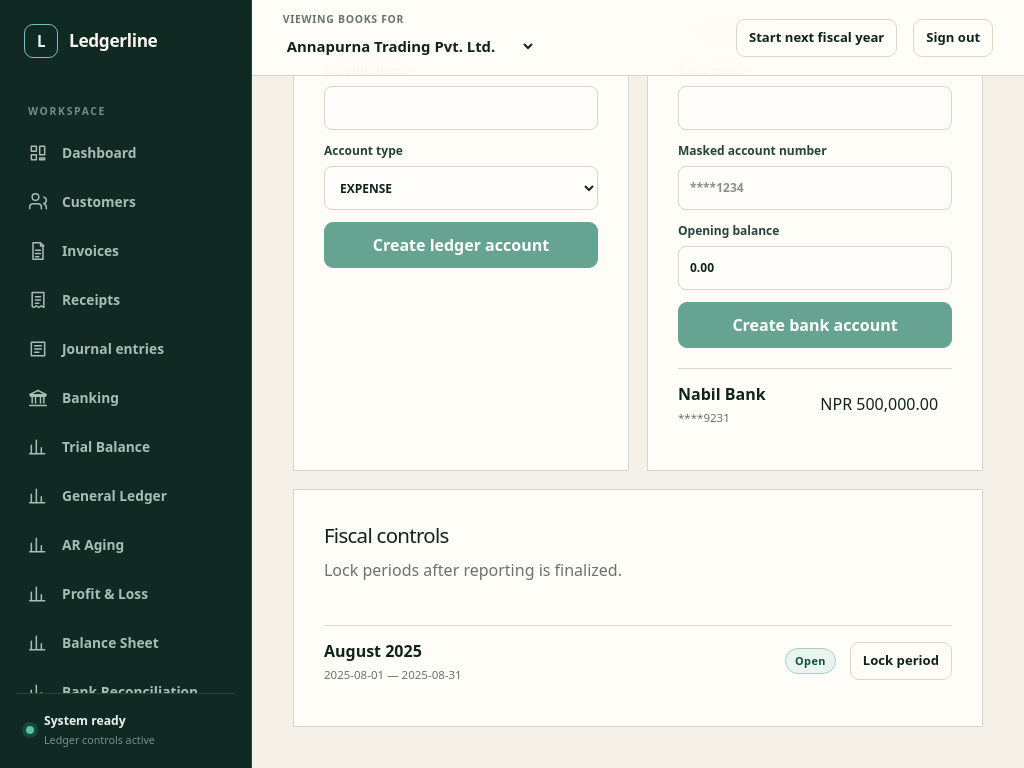
Test: complete endpoint settings UI › loads fiscal years and locks an open accounting period
(page scrolled)
What coordinates should you click on to do the following:
click the button with aria-label "Lock August 2025"
I would click on:
 (901, 661)
Its box is [850,642,952,680].
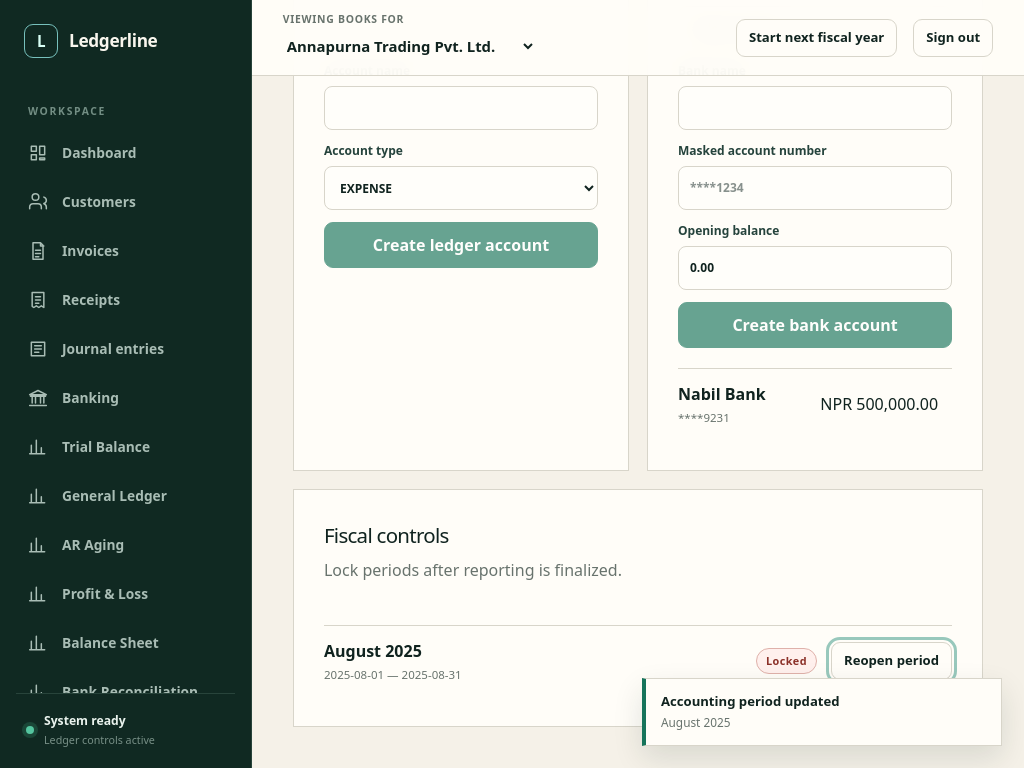
Expected: the button with aria-label "Reopen August 2025" is shown, [831,642,952,680]
